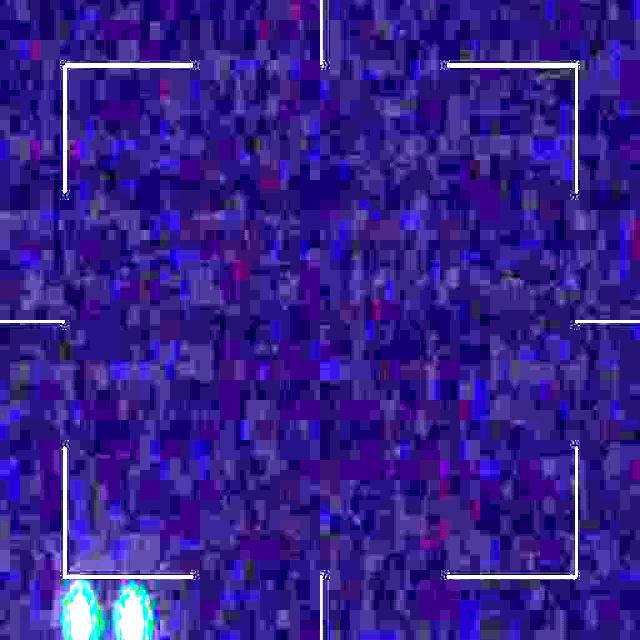bird: (70, 589, 146, 640)
